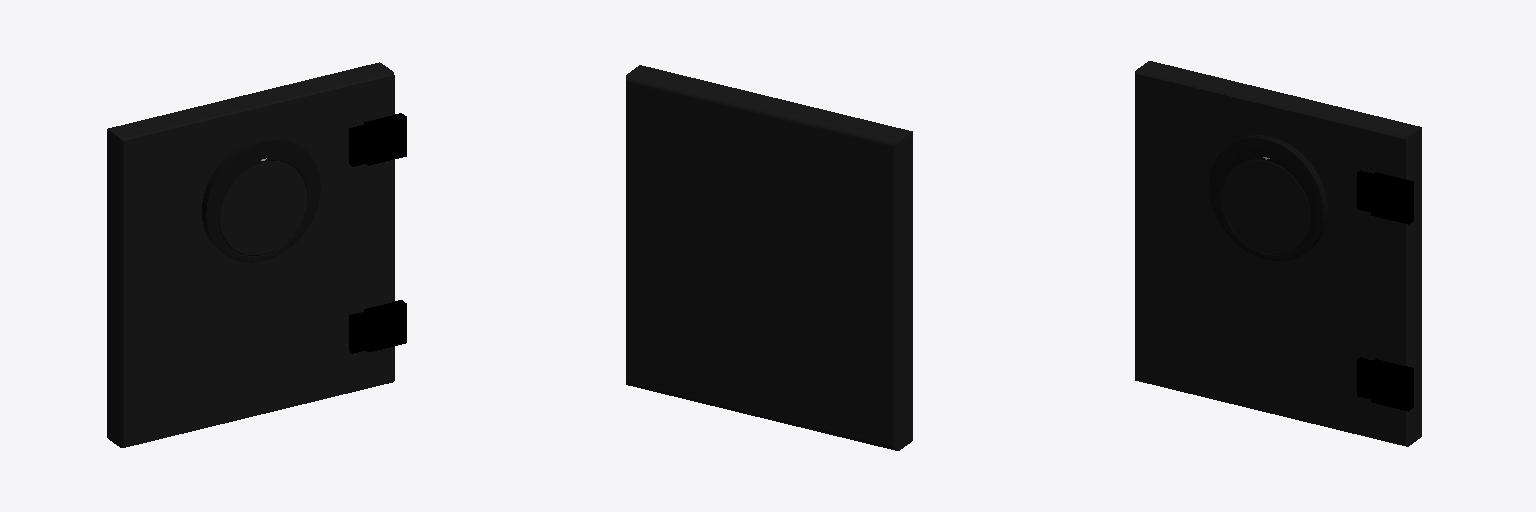
Rendered from safe-door.obj.
3 renders of one model, left to right at view 1: azimuth 30°, elevation 25°; view 2: azimuth 150°, elevation 25°; view 3: azimuth 330°, elevation 25°, orthographic.
Visible parts, largest first — view 1: safe.002_Material.048, safe.002_Material.004, safe.002_Material.049; view 2: safe.002_Material.048; view 3: safe.002_Material.048, safe.002_Material.004, safe.002_Material.049.
Part boxes in pixels (bbox=[...]): safe.002_Material.048: bbox=[107, 62, 394, 447]; safe.002_Material.004: bbox=[202, 136, 320, 262]; safe.002_Material.049: bbox=[349, 113, 406, 353]; safe.002_Material.048: bbox=[626, 65, 912, 450]; safe.002_Material.048: bbox=[1135, 61, 1421, 446]; safe.002_Material.004: bbox=[1209, 135, 1327, 260]; safe.002_Material.049: bbox=[1357, 170, 1413, 411].
Size of the model in its own units: 2.5 by 2.65 by 0.3446.